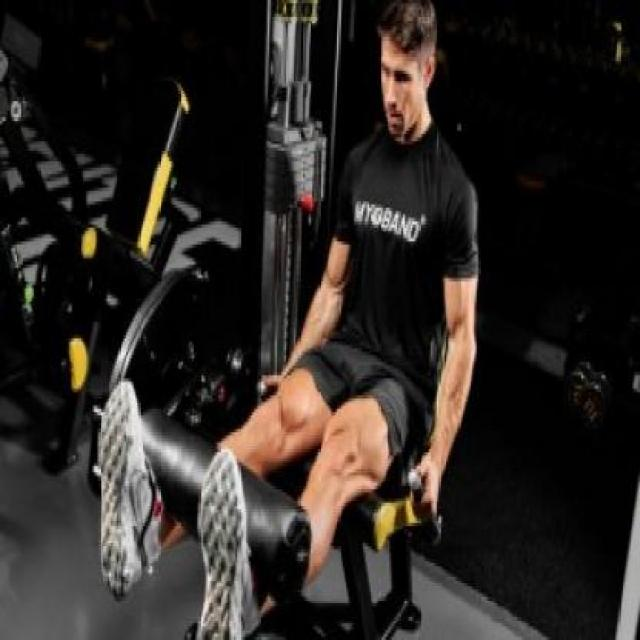leg extension: (77, 0, 489, 640)
